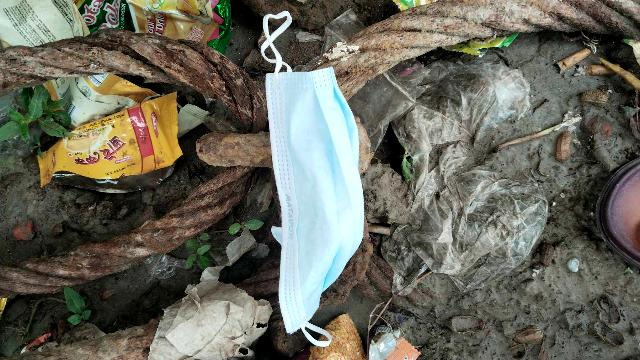mask: (217, 1, 420, 360)
